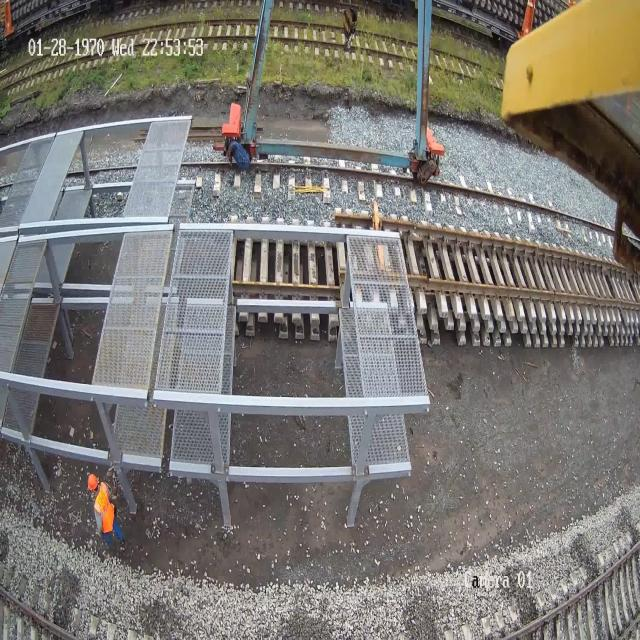Helmet: (87, 473, 98, 491)
Person: (87, 473, 126, 551)
